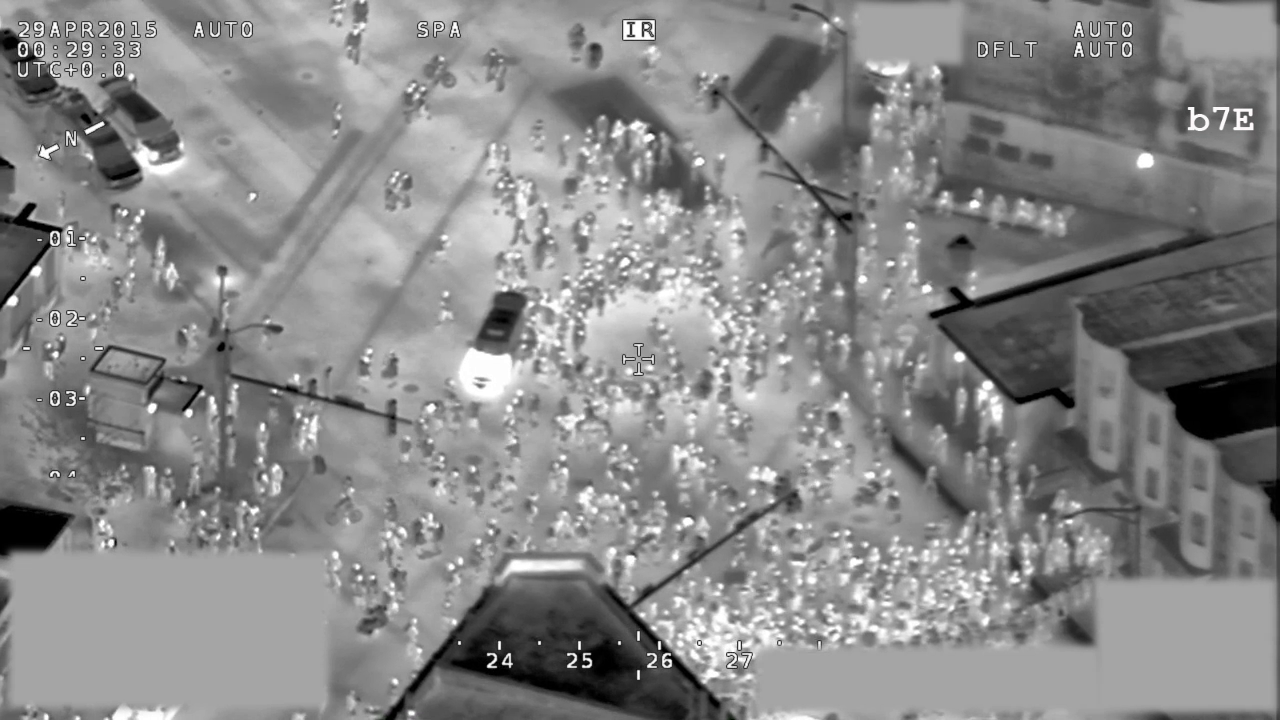vehicle: (36, 81, 146, 203), (444, 282, 538, 406), (95, 67, 192, 175)
